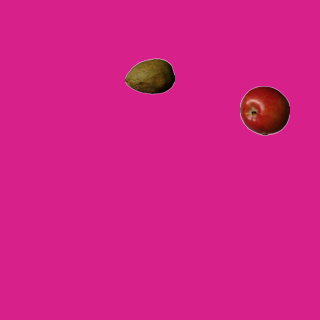Apple Braeburn: (239, 85, 289, 135)
Papaya: (124, 51, 174, 101)
